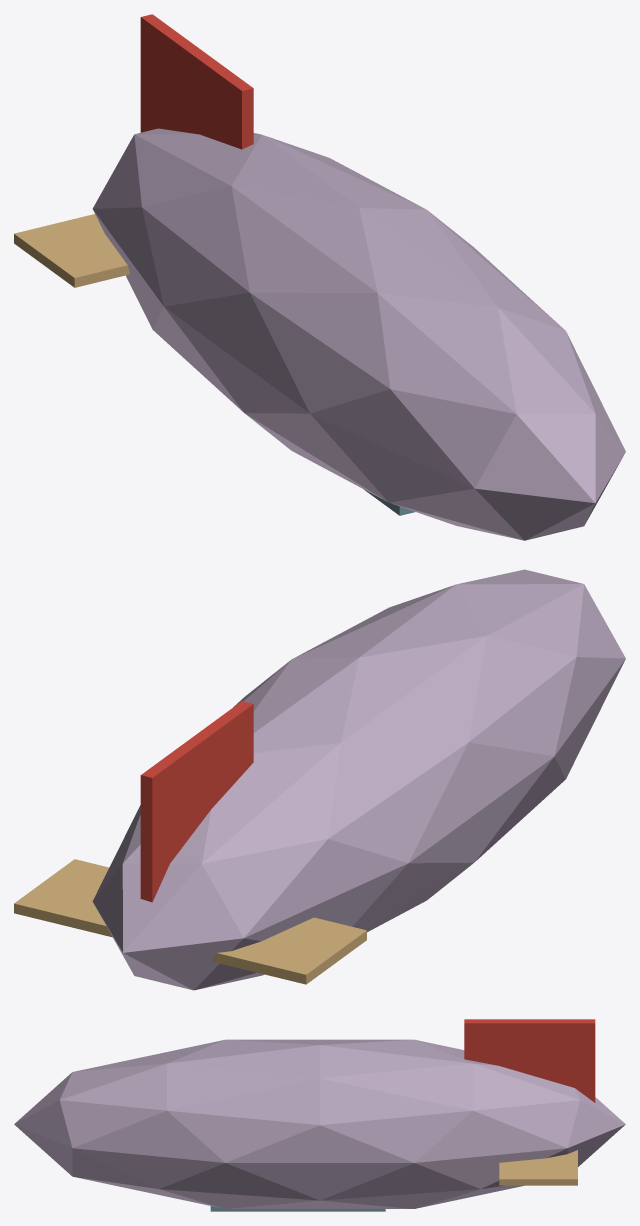
The picture shows the model from 3 angles, top to bottom: view 1: azimuth 30°, elevation 25°; view 2: azimuth 150°, elevation 25°; view 3: azimuth 270°, elevation 25°; orthographic projection. The views are drawn at different scales.
Visible parts, largest first — view 1: RC-021 Commuter airship batched; view 2: RC-021 Commuter airship batched; view 3: RC-021 Commuter airship batched.
Boxes of the visible parts, x1=… form: RC-021 Commuter airship batched: x1=14, y1=14, x2=625, y2=540; RC-021 Commuter airship batched: x1=14, y1=569, x2=625, y2=990; RC-021 Commuter airship batched: x1=14, y1=1019, x2=625, y2=1211.
Bounding box in the file's own units: 5 × 4.6 × 14.
